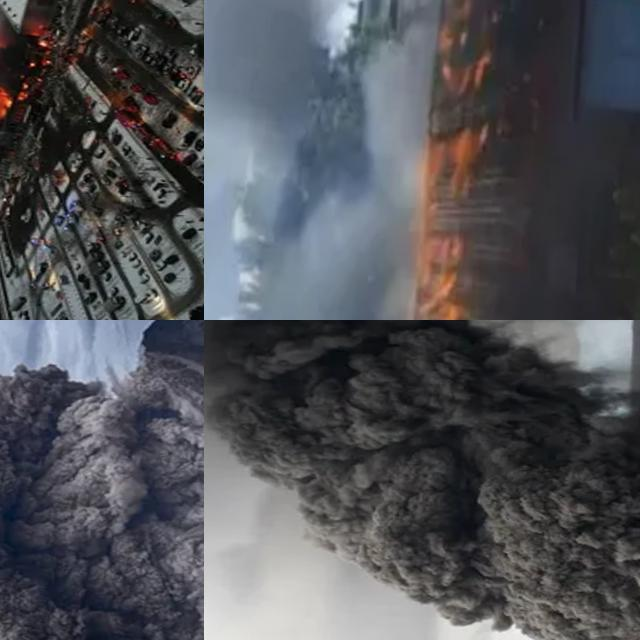smoke: (204, 320, 640, 640), (0, 342, 204, 640), (310, 12, 433, 316), (204, 0, 324, 164)
